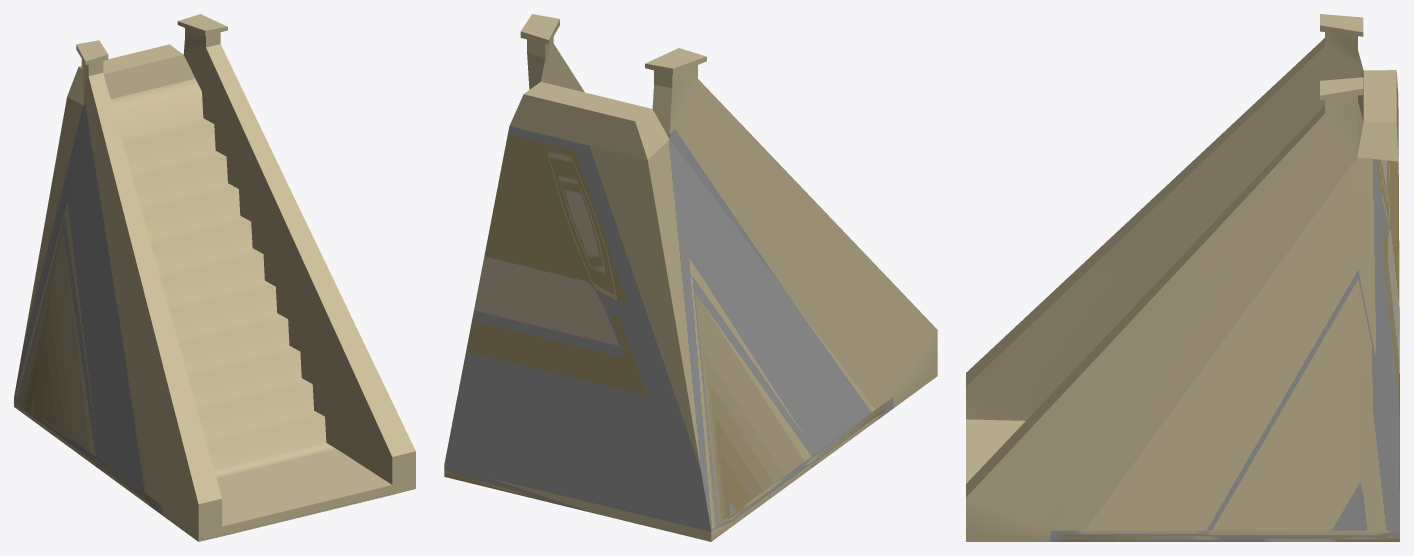
The model's file is Dungeon_Stairs.fbx.
3 renders of one model, left to right at view 1: azimuth 30°, elevation 25°; view 2: azimuth 150°, elevation 25°; view 3: azimuth 270°, elevation 25°, orthographic. The views are drawn at different scales.
Visible parts, largest first — view 1: Temple2; view 2: Temple2; view 3: Temple2.
Boxes of the visible parts, bbox=[...] form: Temple2: bbox=[14, 14, 415, 541]; Temple2: bbox=[444, 14, 937, 541]; Temple2: bbox=[966, 14, 1399, 541].
Size of the model in its own units: 141 by 225 by 207.
